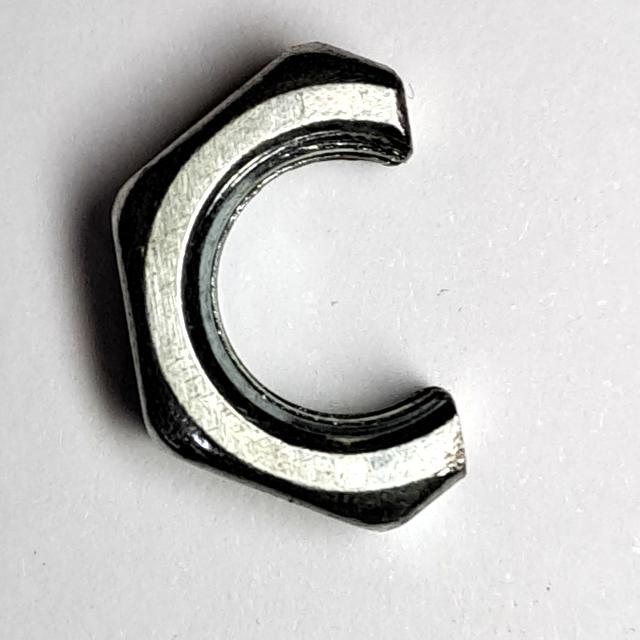Fracture: (107, 25, 483, 551)
